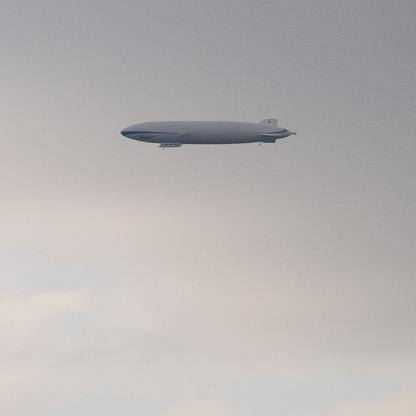Airship: (115, 117, 300, 157)
